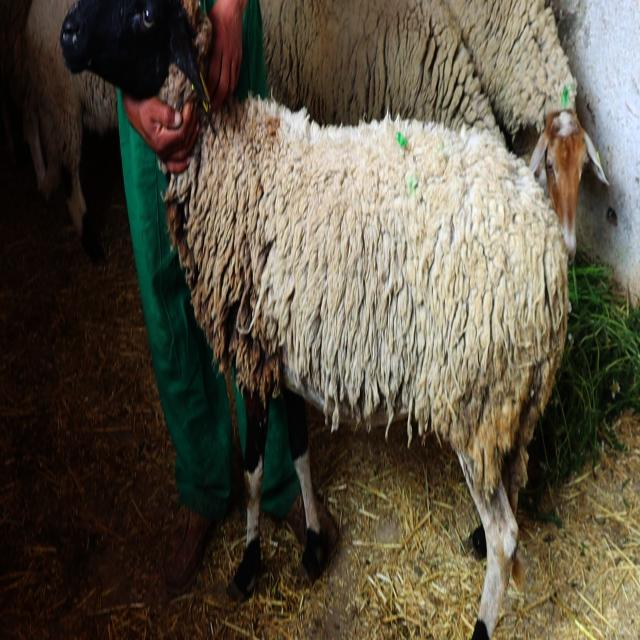Score_2: (60, 0, 569, 639)
